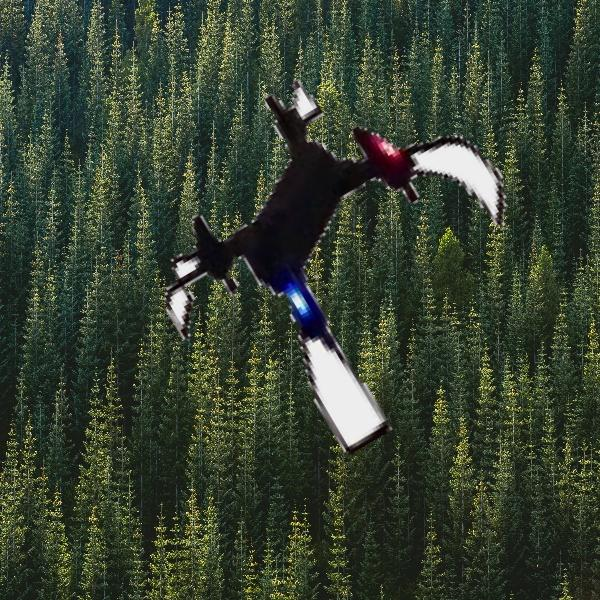drone: (150, 63, 522, 435)
